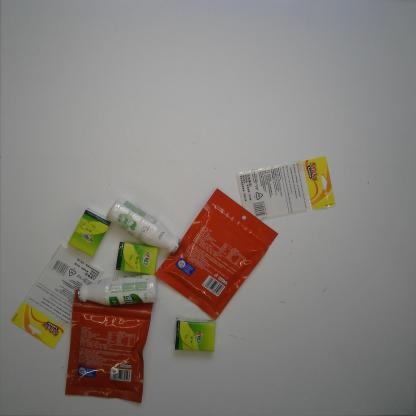Dried Fruit: (154, 188, 278, 322), (64, 289, 152, 403)
Milk: (106, 196, 182, 254), (77, 274, 158, 306)
Stationery: (10, 244, 104, 350), (236, 156, 336, 223)
Tissue: (67, 207, 112, 258), (174, 317, 216, 352), (116, 241, 158, 276)
